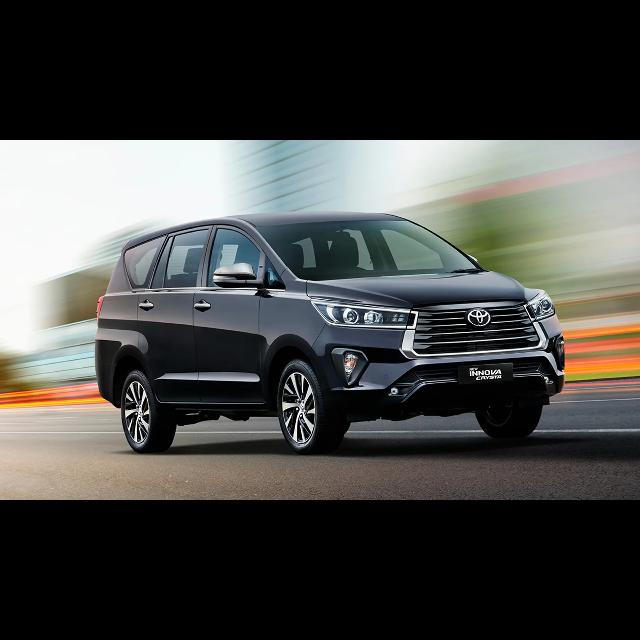vehicles: (90, 212, 570, 454)
